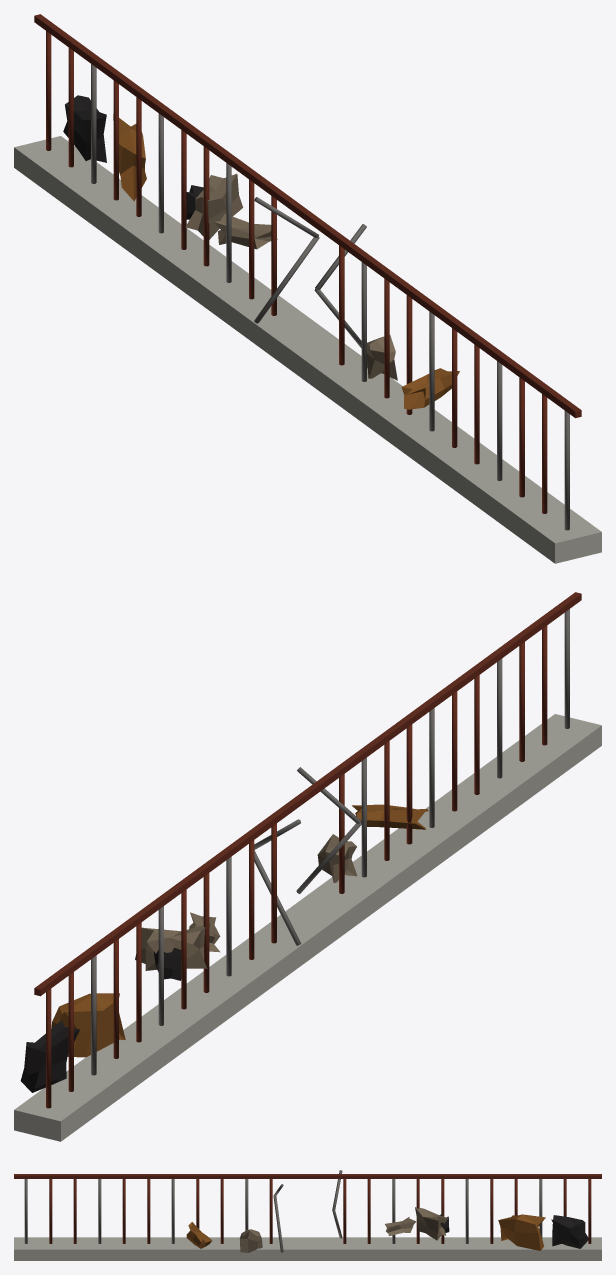
File: tunnel_mouth.glb
3 views of the same model, one above another, from view 1: azimuth 30°, elevation 25°; view 2: azimuth 150°, elevation 25°; view 3: azimuth 270°, elevation 25° (orthographic). The views are drawn at different scales.
Parts seen in each view (by area): view 1: sill, rail, trash_3, trash_4, trash_2, trash_5, trash_6, trash_0, bar_16, bar_2, bar_20; view 2: sill, rail, trash_2, trash_4, trash_3, trash_5, trash_0, bar_7, bar_16, bar_3, bar_21; view 3: sill, rail, trash_2, trash_4, trash_3, trash_0, trash_5, trash_6, bar_0, bar_1, bar_2, bar_3 (+19 smaller).
Boxes of the visible parts, bbox=[...] form: sill: bbox=[14, 136, 601, 563]; rail: bbox=[34, 14, 581, 418]; trash_3: bbox=[185, 173, 243, 239]; trash_4: bbox=[63, 95, 106, 162]; trash_2: bbox=[113, 114, 146, 201]; trash_5: bbox=[401, 368, 459, 409]; trash_6: bbox=[214, 214, 277, 249]; trash_0: bbox=[367, 335, 397, 380]; bar_16: bbox=[203, 146, 209, 266]; bar_2: bbox=[519, 377, 524, 497]; bar_20: bbox=[113, 80, 118, 200]; sill: bbox=[14, 714, 601, 1141]; rail: bbox=[34, 592, 581, 996]; trash_2: bbox=[51, 993, 125, 1057]; trash_4: bbox=[20, 1020, 79, 1092]; trash_3: bbox=[135, 923, 210, 970]; trash_5: bbox=[352, 804, 428, 829]; trash_0: bbox=[317, 834, 357, 883]; bar_7: bbox=[406, 724, 412, 844]; bar_16: bbox=[203, 873, 209, 992]; bar_3: bbox=[497, 658, 502, 778]; bar_21: bbox=[91, 955, 96, 1075]; sill: bbox=[14, 1237, 601, 1260]; rail: bbox=[14, 1174, 601, 1178]; trash_2: bbox=[498, 1214, 545, 1250]; trash_4: bbox=[551, 1215, 589, 1248]; trash_3: bbox=[415, 1207, 448, 1240]; trash_0: bbox=[240, 1229, 262, 1252]; trash_5: bbox=[186, 1222, 212, 1248]; trash_6: bbox=[385, 1217, 415, 1235]; bar_0: bbox=[24, 1179, 27, 1243]; bar_1: bbox=[49, 1179, 52, 1243]; bar_2: bbox=[73, 1179, 76, 1243]; bar_3: bbox=[98, 1179, 101, 1243].
Size of the model in its own units: 0.9962 by 1.8 by 12.
